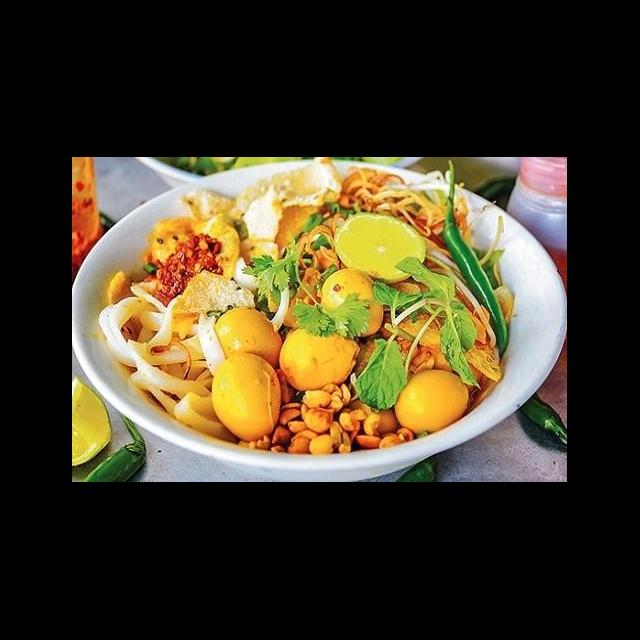banh da: (178, 188, 286, 286), (228, 158, 344, 212), (168, 268, 258, 318)
mi: (96, 276, 234, 439), (230, 256, 296, 334)
trung: (210, 351, 286, 444), (276, 324, 364, 394), (390, 366, 472, 436), (210, 304, 286, 374), (316, 266, 386, 338)
